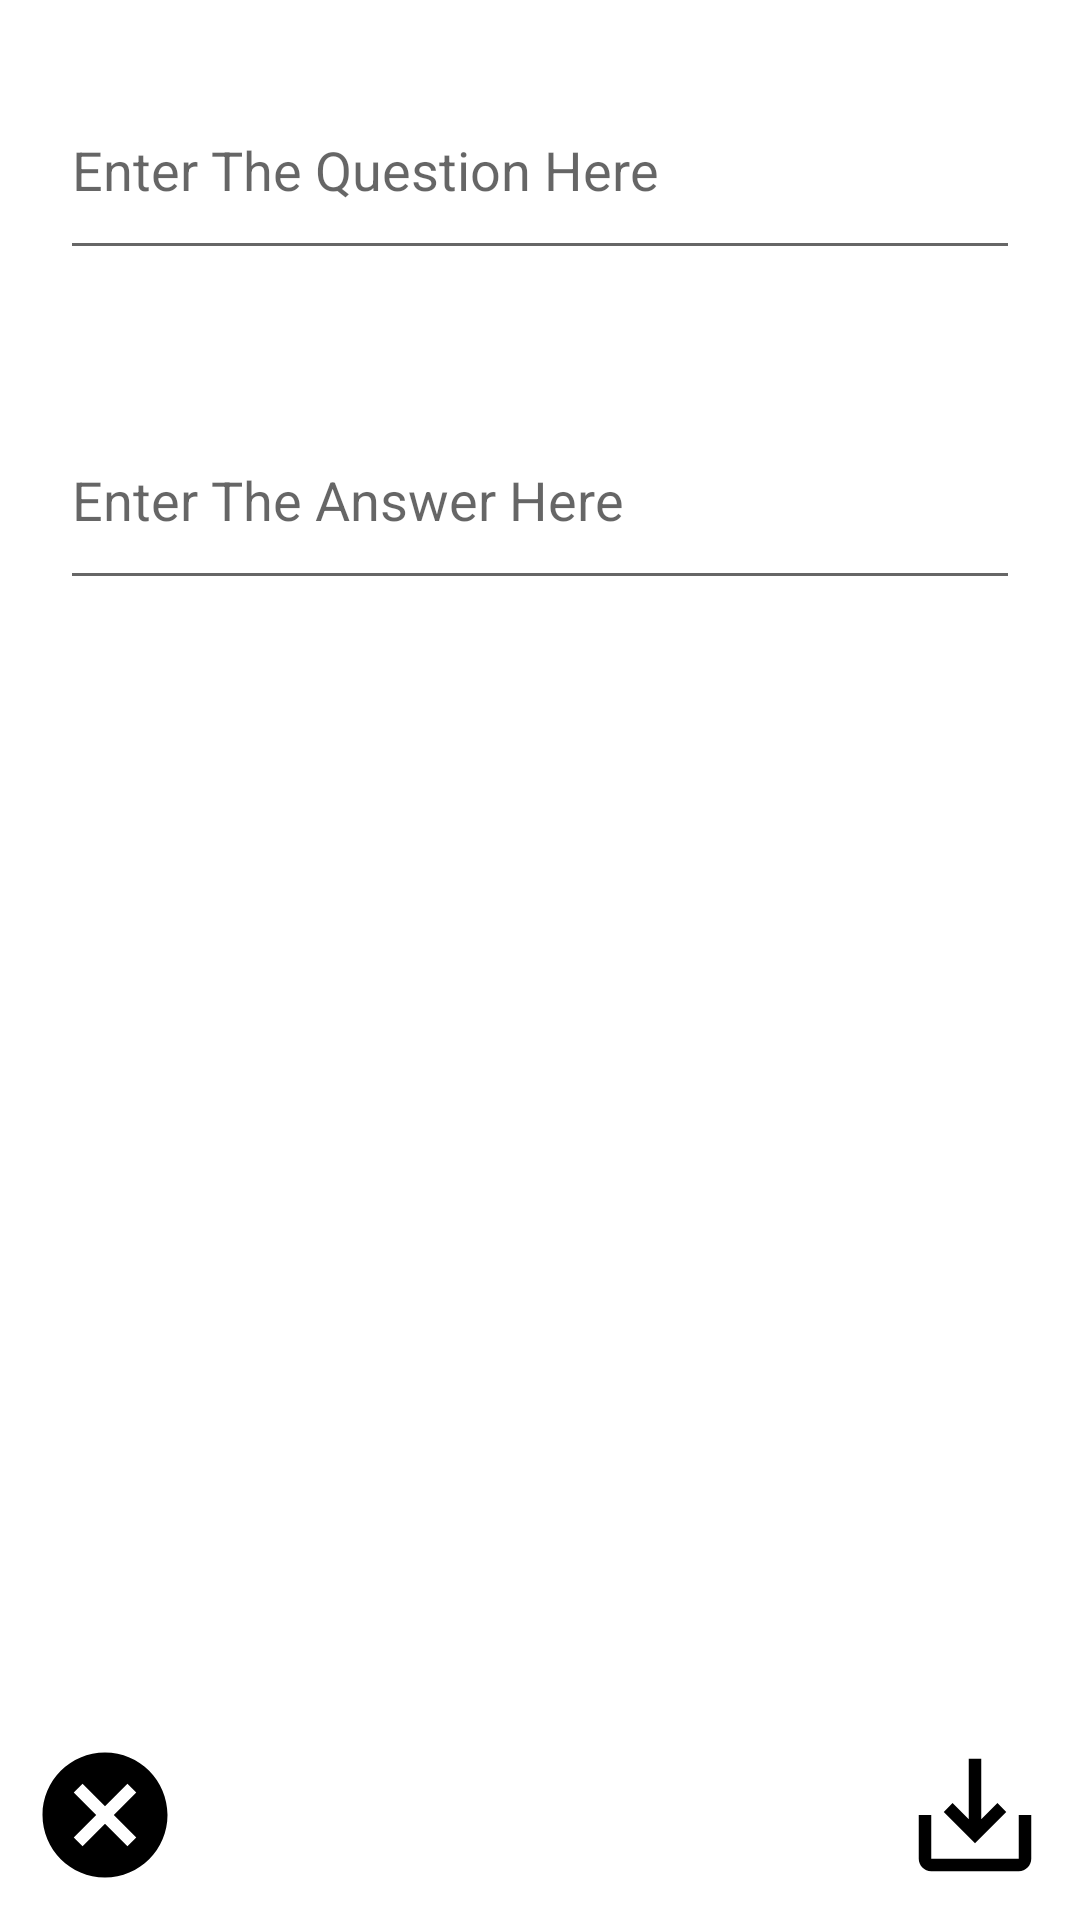

Point at icon controls on the screen. Image size 1080px x 1920px, points as [x,y].
cancel: [105,1815]
save: [975,1815]
